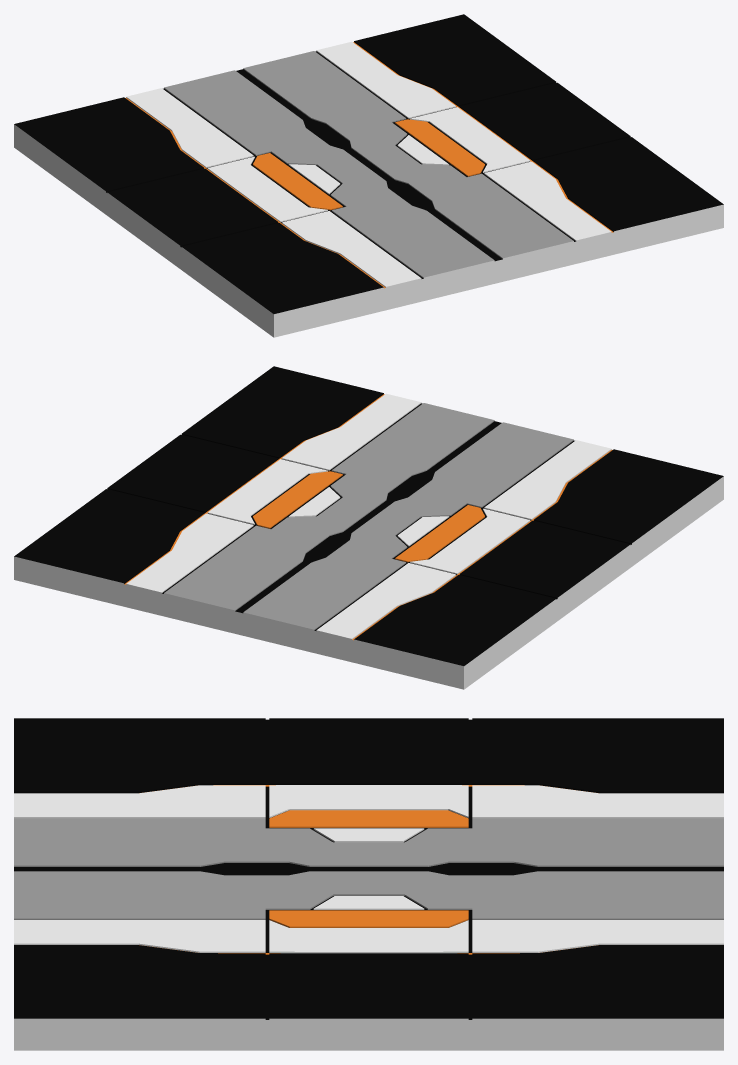
File: F_Floor_02.fbx
The picture shows the model from 3 angles, top to bottom: view 1: azimuth 30°, elevation 25°; view 2: azimuth 150°, elevation 25°; view 3: azimuth 270°, elevation 25°; orthographic projection. The views are drawn at different scales.
Visible parts, largest first — view 1: F_Floor_01; view 2: F_Floor_01; view 3: F_Floor_01.
Part boxes in pixels (x1,y1,x2,y2): F_Floor_01: (14,14,723,337); F_Floor_01: (14,366,723,689); F_Floor_01: (14,718,723,1050).
Size of the model in its own units: 879 by 43.75 by 879.
1 material, 1 textured.
